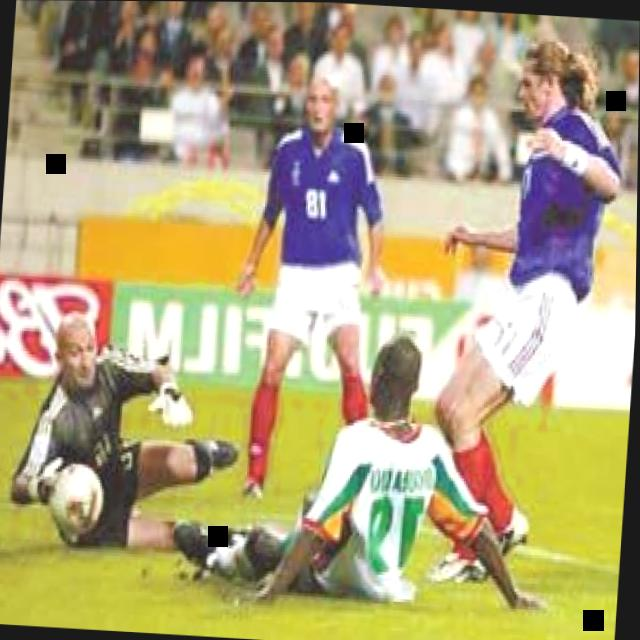Fall-Detected: (173, 300, 566, 624)
